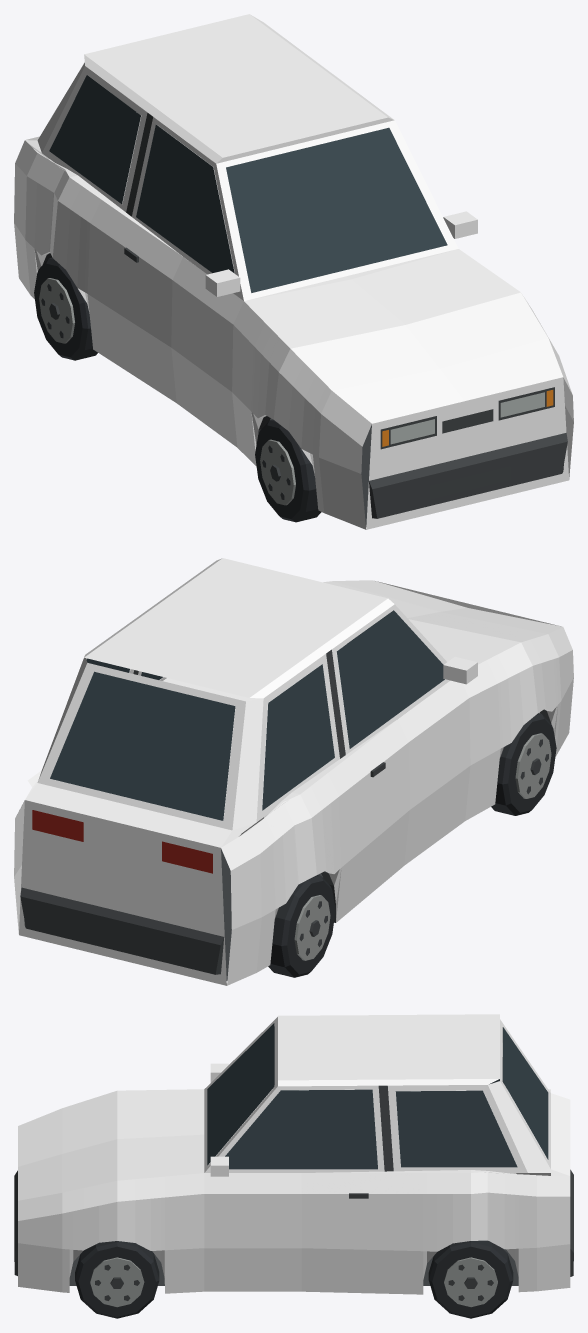
The model's file is morel_caillou.glb.
The picture shows the model from 3 angles, top to bottom: view 1: azimuth 30°, elevation 25°; view 2: azimuth 150°, elevation 25°; view 3: azimuth 270°, elevation 25°; orthographic projection. The views are drawn at different scales.
Parts seen in each view (by area): view 1: morel_caillou; view 2: morel_caillou; view 3: morel_caillou.
Boxes of the visible parts, x1,y1,x2,y2 form: morel_caillou: [14, 14, 573, 529]; morel_caillou: [14, 558, 573, 985]; morel_caillou: [14, 1014, 573, 1318].
Size of the model in its own units: 1.6 by 1.62 by 3.67.
8 materials, 1 textured.
